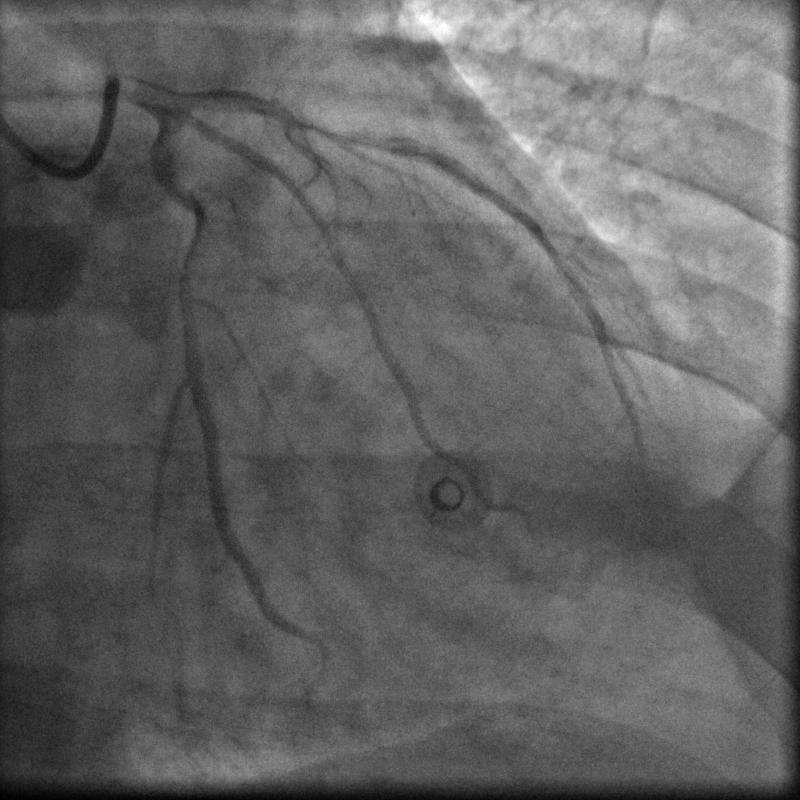Stenosis: (305, 118, 394, 159)
